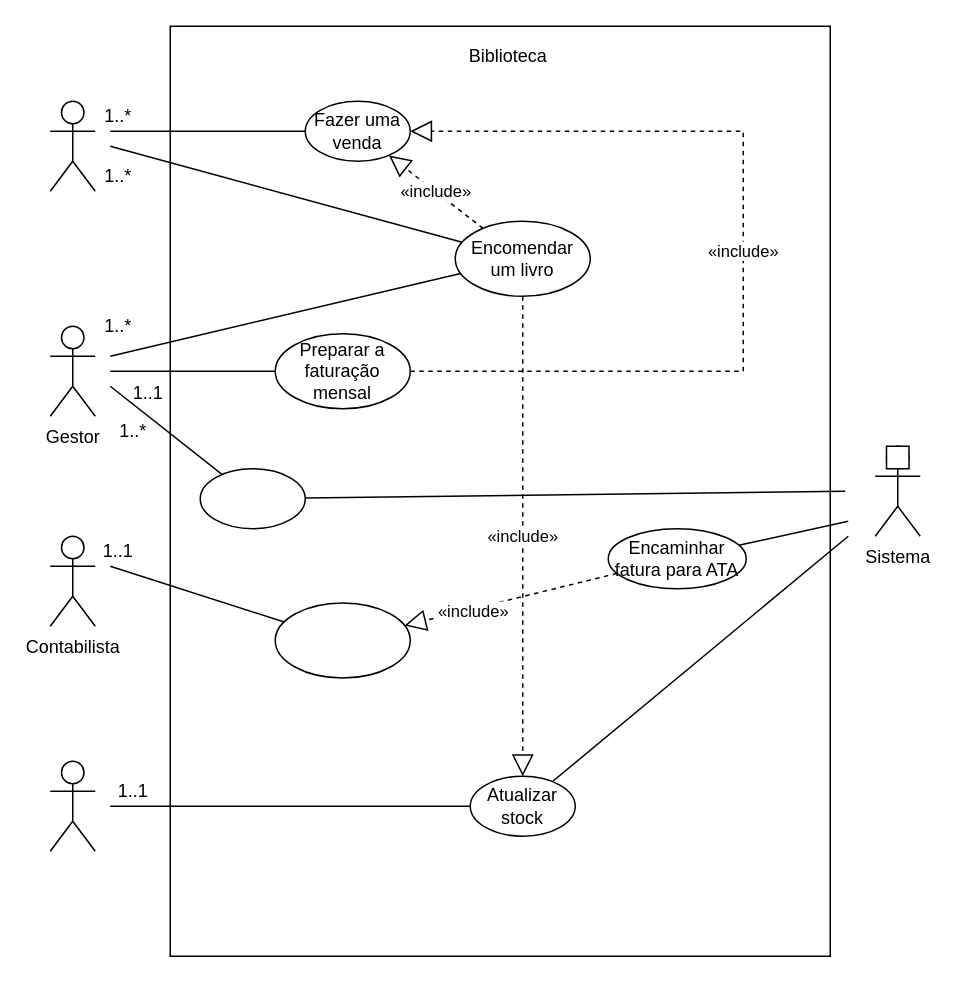
Some shapes in this 956 by 983 pixel diagram are drawn without their labels. The centre of each missing label's shape, as x and y in pixels:
"Contrata estagiário" goes at (252,498).
"Efetuar faturação mensal" goes at (342,640).
"Estagiário" goes at (72,805).
"Funcionário" goes at (72,145).
